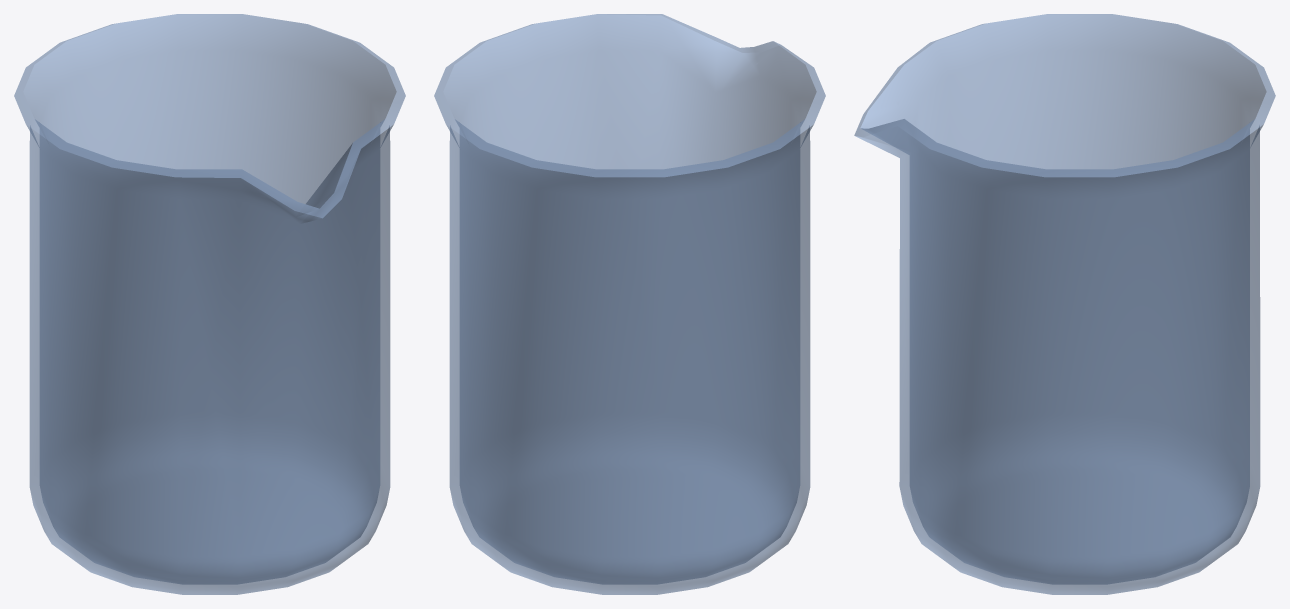
Rendered from kadinka.fbx.
3 views of the same model, side by side, from view 1: azimuth 30°, elevation 25°; view 2: azimuth 150°, elevation 25°; view 3: azimuth 270°, elevation 25° (orthographic).
Parts seen in each view (by area): view 1: kadinka; view 2: kadinka; view 3: kadinka.
Part boxes in pixels (left/top/right/bottom): kadinka: left=14, top=14, right=405, bottom=594; kadinka: left=434, top=14, right=825, bottom=594; kadinka: left=854, top=14, right=1275, bottom=594.
Size of the model in its own units: 10.17 by 12.87 by 11.11.
